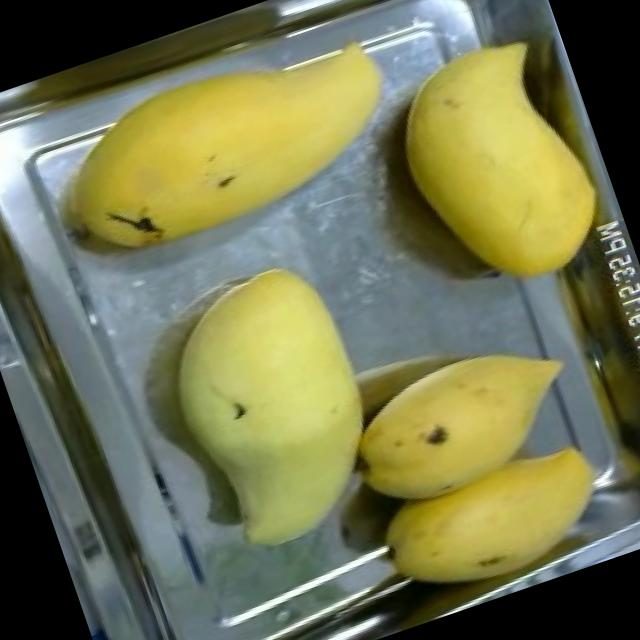fruit: (42, 9, 424, 284), (126, 238, 418, 580), (322, 318, 638, 630), (358, 8, 630, 326)
